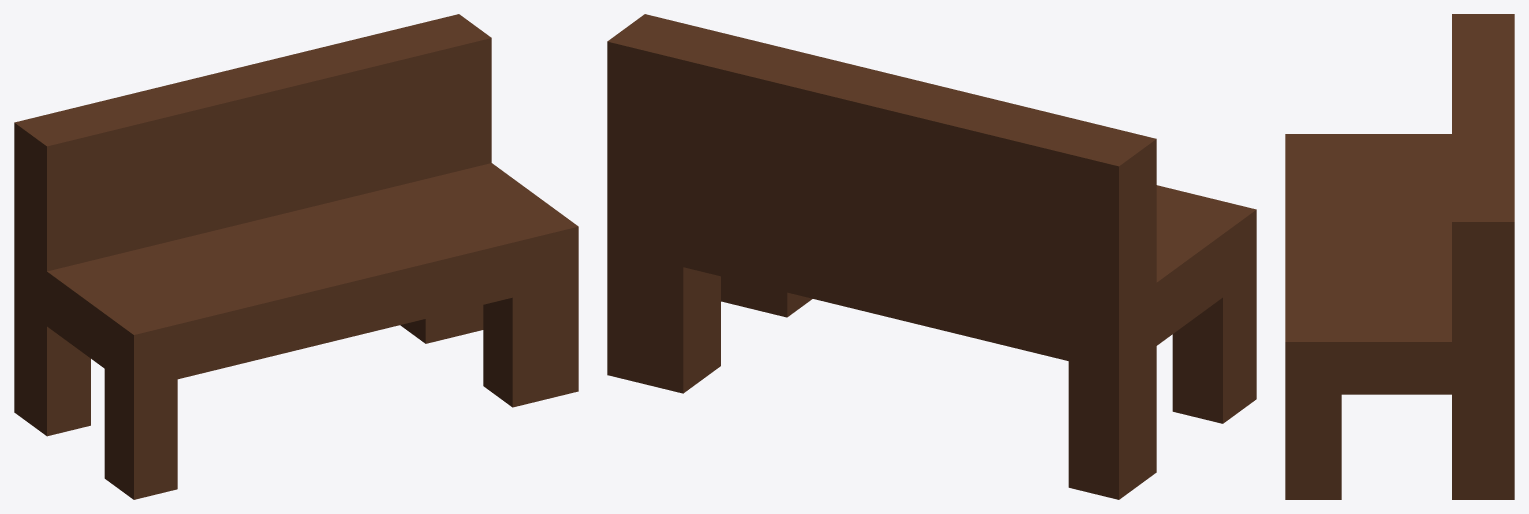
Rendered from bench.glb.
3 renders of one model, left to right at view 1: azimuth 30°, elevation 25°; view 2: azimuth 150°, elevation 25°; view 3: azimuth 270°, elevation 25°, orthographic. The views are drawn at different scales.
Visible parts, largest first — view 1: bench; view 2: bench; view 3: bench.
Part boxes in pixels (left/top/right/bottom): bench: left=14, top=14, right=578, bottom=499; bench: left=607, top=14, right=1256, bottom=499; bench: left=1285, top=14, right=1514, bottom=499.
Bounding box in the file's own units: 1.88 × 1.17 × 0.8761.
